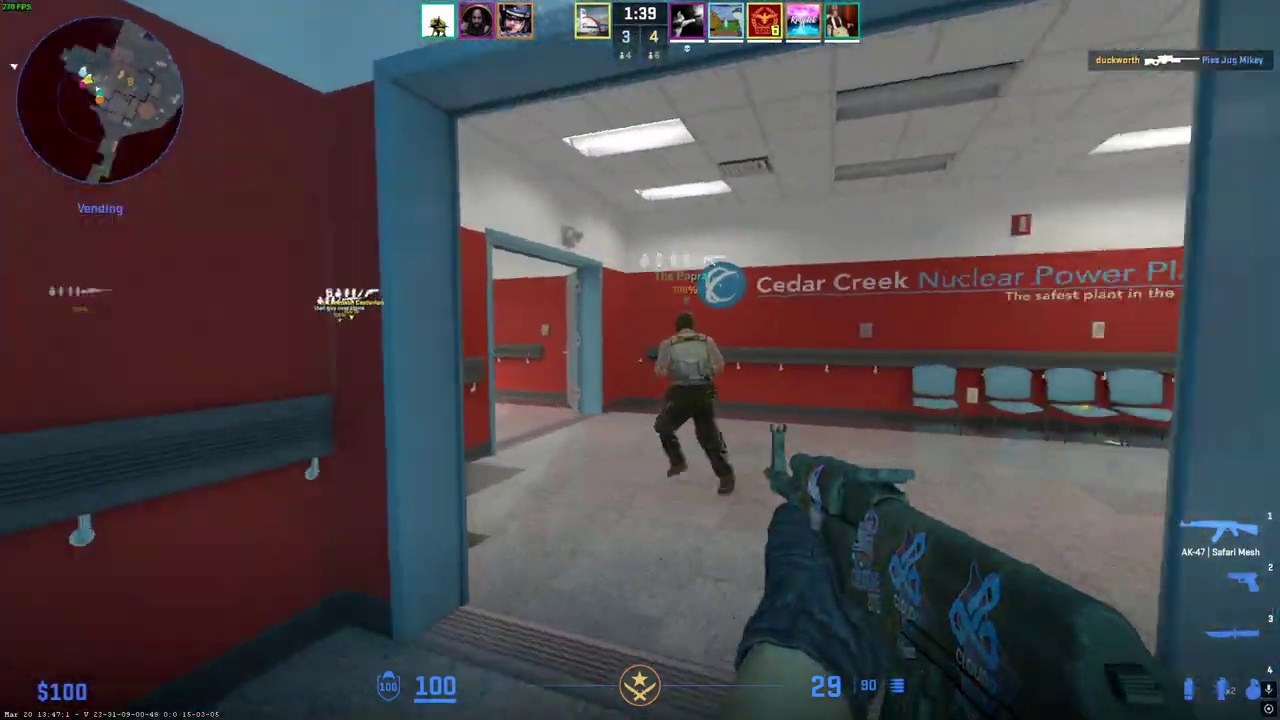Terrorist: (653, 312, 732, 495)
